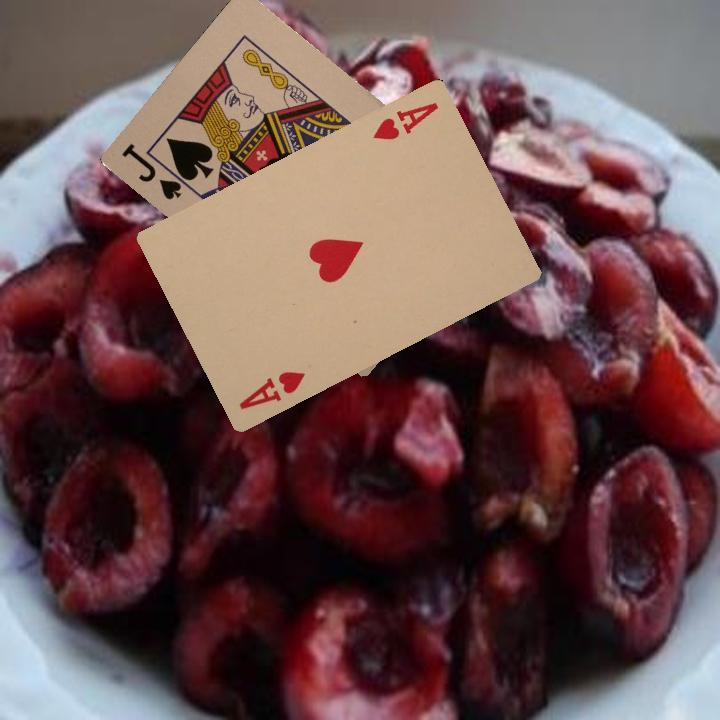Ah: (234, 367, 308, 412), (368, 98, 441, 143)
Js: (117, 138, 195, 203)
